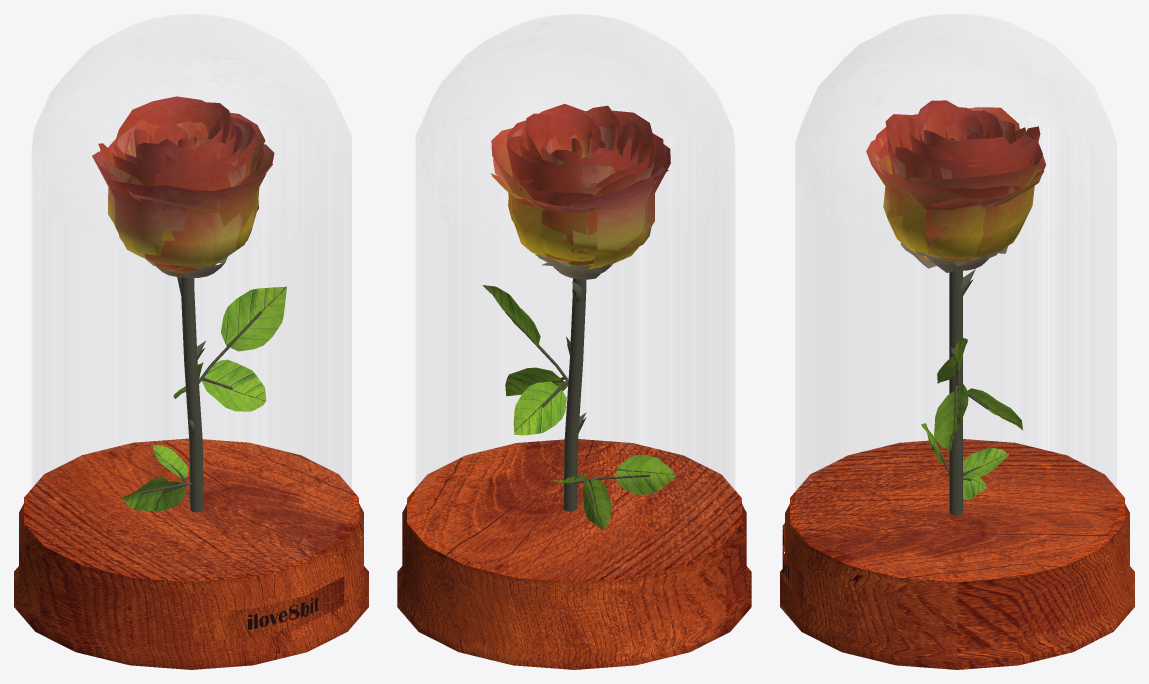
The model's file is rose.glb.
3 renders of one model, left to right at view 1: azimuth 30°, elevation 25°; view 2: azimuth 150°, elevation 25°; view 3: azimuth 270°, elevation 25°, orthographic.
Visible parts, largest first — view 1: Cylinder001, Sphere002, Plane002_Material #48_0, Object061_Material #49_0, Object051_Material #48_0, Object052_Material #48_0, Line001_Material #47_0, Object009_Material #48_0, Object038_Material #48_0, Object045_Material #48_0, Object008_Material #48_0, Object049_Material #48_0 (+7 smaller); view 2: Cylinder001, Sphere002, Plane002_Material #48_0, Object053_Material #48_0, Line001_Material #47_0, Object040_Material #48_0, Object054_Material #48_0, Object046_Material #48_0, Object013_Material #48_0, Object010_Material #48_0, Object060_Material #48_0, Object055_Material #48_0 (+8 smaller); view 3: Cylinder001, Sphere002, Plane002_Material #48_0, Object012_Material #48_0, Object054_Material #48_0, Line001_Material #47_0, Object009_Material #48_0, Object006_Material #48_0, Object045_Material #48_0, Object040_Material #48_0, Object013_Material #48_0, Object060_Material #48_0 (+9 smaller).
Boxes of the visible parts, <box> form: Cylinder001: <box>14,438,368,669</box>; Sphere002: <box>36,14,351,502</box>; Plane002_Material #48_0: <box>121,286,286,510</box>; Object061_Material #49_0: <box>192,576,344,641</box>; Object051_Material #48_0: <box>145,185,253,273</box>; Object052_Material #48_0: <box>106,179,194,259</box>; Line001_Material #47_0: <box>181,277,203,512</box>; Object009_Material #48_0: <box>178,173,266,241</box>; Object038_Material #48_0: <box>155,161,242,190</box>; Object045_Material #48_0: <box>171,102,232,143</box>; Object008_Material #48_0: <box>104,161,190,256</box>; Object049_Material #48_0: <box>136,143,185,170</box>; Cylinder001: <box>397,439,751,669</box>; Sphere002: <box>416,14,734,492</box>; Plane002_Material #48_0: <box>482,285,676,529</box>; Object053_Material #48_0: <box>588,167,668,269</box>; Line001_Material #47_0: <box>563,278,586,511</box>; Object040_Material #48_0: <box>506,136,590,253</box>; Object054_Material #48_0: <box>491,128,557,262</box>; Object046_Material #48_0: <box>544,109,601,150</box>; Object013_Material #48_0: <box>490,173,574,262</box>; Object010_Material #48_0: <box>573,183,656,257</box>; Object060_Material #48_0: <box>535,254,619,279</box>; Object055_Material #48_0: <box>559,161,614,265</box>; Cylinder001: <box>780,439,1134,669</box>; Sphere002: <box>796,14,1110,505</box>; Plane002_Material #48_0: <box>921,337,1022,500</box>; Object012_Material #48_0: <box>877,155,985,259</box>; Object054_Material #48_0: <box>910,163,1041,259</box>; Line001_Material #47_0: <box>949,270,962,515</box>; Object009_Material #48_0: <box>866,137,937,256</box>; Object006_Material #48_0: <box>924,189,1020,260</box>; Object045_Material #48_0: <box>930,136,1008,161</box>; Object040_Material #48_0: <box>965,126,1040,173</box>; Object013_Material #48_0: <box>975,168,1044,258</box>; Object060_Material #48_0: <box>900,242,1007,272</box>.
Bounding box in the file's own units: 90.38 × 154 × 89.
Materials: 4 (4 with a texture image).
